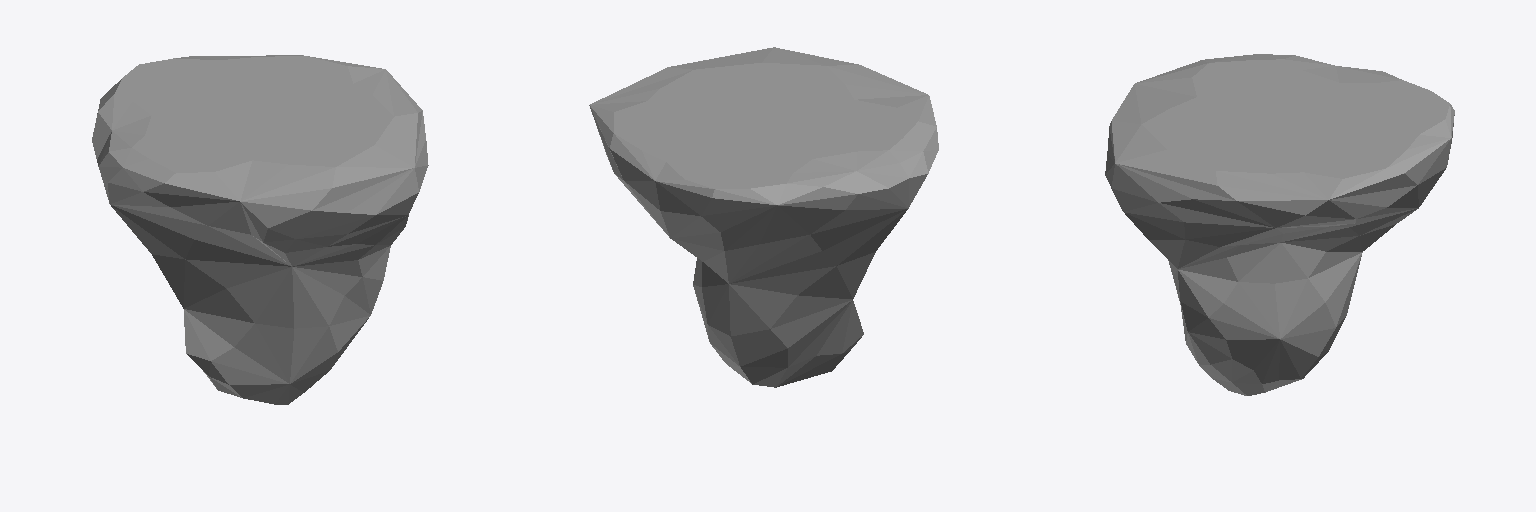
The model's file is island3.obj.
3 views of the same model, side by side, from view 1: azimuth 30°, elevation 25°; view 2: azimuth 150°, elevation 25°; view 3: azimuth 270°, elevation 25° (orthographic).
Visible parts, largest first — view 1: Mesh_Cube; view 2: Mesh_Cube; view 3: Mesh_Cube.
Part boxes in pixels (left/top/right/bottom): Mesh_Cube: left=92, top=55, right=428, bottom=404; Mesh_Cube: left=589, top=47, right=938, bottom=387; Mesh_Cube: left=1105, top=54, right=1454, bottom=395.
Bounding box in the file's own units: 1.62 × 1.37 × 1.59.